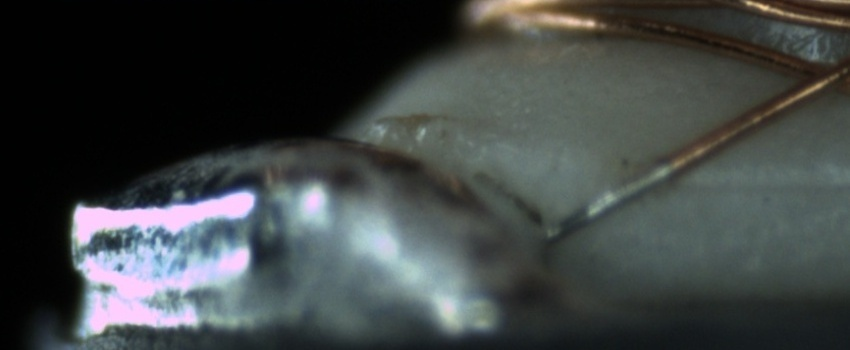CL: (772, 48, 847, 104)
DL: (674, 150, 850, 216)
TS: (534, 162, 674, 245)
TTCW: (541, 143, 707, 244)
